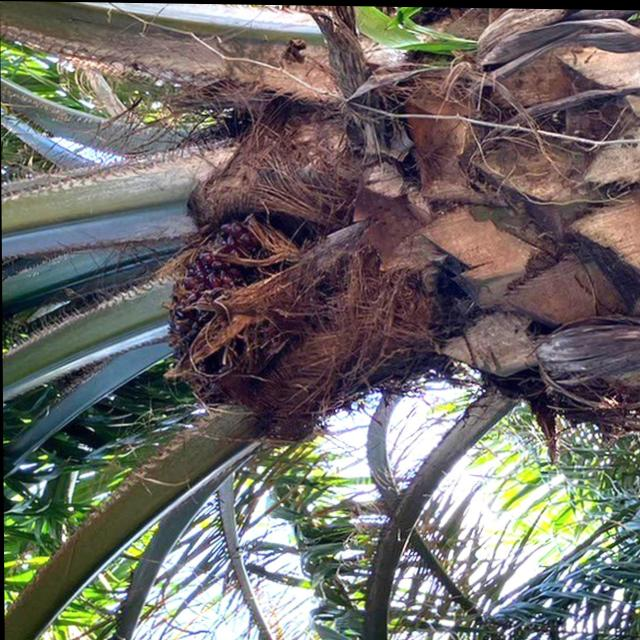almost: (154, 207, 343, 411)
